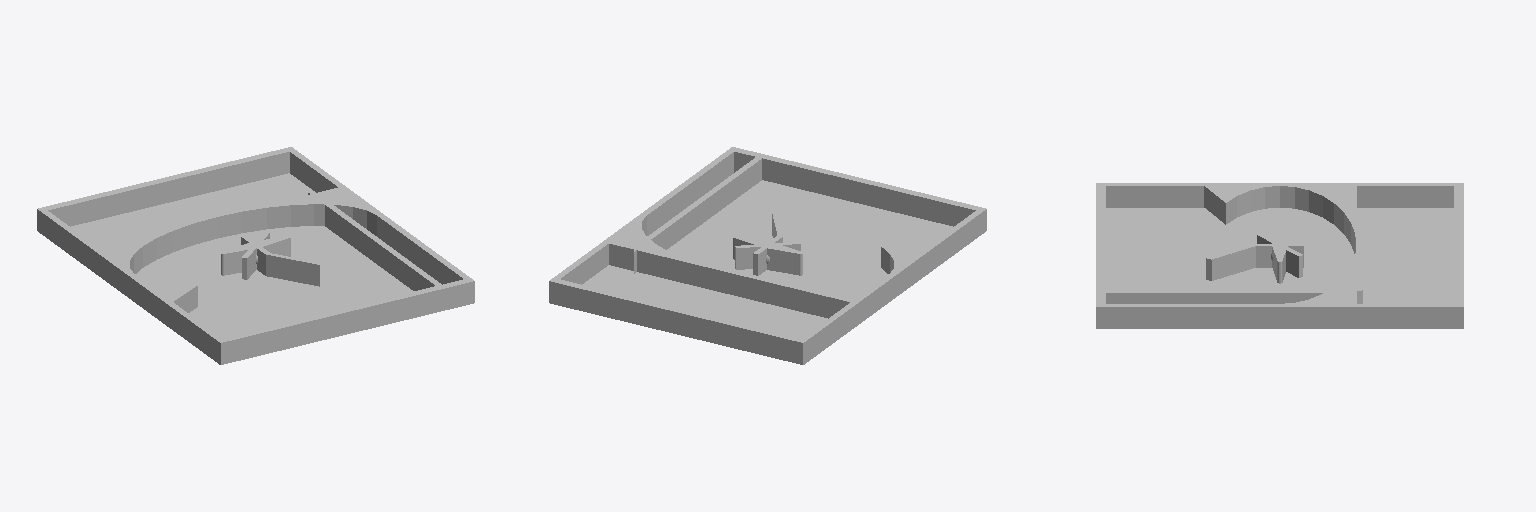
Rendered from level_meshes.obj.
3 views of the same model, side by side, from view 1: azimuth 30°, elevation 25°; view 2: azimuth 150°, elevation 25°; view 3: azimuth 270°, elevation 25° (orthographic).
Parts seen in each view (by area): view 1: Table_Cube, Ramp_Cylinder.002, HingeL_Cube.001, FlipperR_Cylinder.001; view 2: Table_Cube, Ramp_Cylinder.002, FlipperR_Cylinder.001, HingeL_Cube.001, HingeR_Cube.002; view 3: Table_Cube, Ramp_Cylinder.002, HingeL_Cube.001, HingeR_Cube.002.
Part boxes in pixels (x1,y1,x2,y2): Table_Cube: (37, 147, 474, 364); Ramp_Cylinder.002: (97, 187, 376, 312); HingeL_Cube.001: (241, 235, 319, 286); FlipperR_Cylinder.001: (221, 242, 263, 275); Table_Cube: (549, 147, 986, 364); Ramp_Cylinder.002: (609, 216, 925, 318); FlipperR_Cylinder.001: (766, 242, 802, 275); HingeL_Cube.001: (753, 211, 782, 275); HingeR_Cube.002: (735, 241, 800, 269); Table_Cube: (1096, 183, 1463, 328); Ramp_Cylinder.002: (1204, 186, 1356, 303); HingeL_Cube.001: (1206, 244, 1303, 280); HingeR_Cube.002: (1257, 233, 1302, 277).
Bounding box in the file's own units: 24 × 2 × 30.